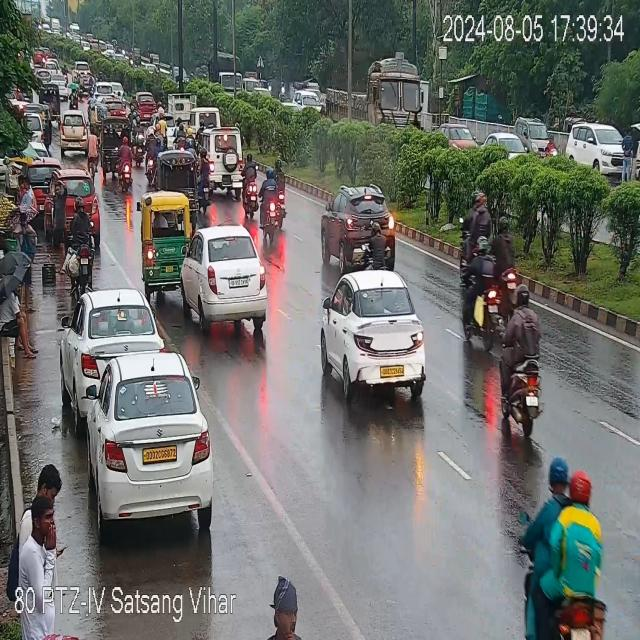2-wheelers: (494, 442, 638, 640), (493, 284, 558, 432), (461, 235, 508, 355), (484, 205, 524, 312), (456, 177, 494, 273), (63, 194, 97, 294), (258, 164, 286, 242), (238, 147, 262, 225), (360, 224, 398, 272), (266, 149, 288, 219), (114, 122, 133, 196), (144, 124, 158, 186), (131, 116, 147, 170), (153, 110, 172, 154), (544, 129, 564, 157)
auto: (136, 180, 196, 296), (156, 150, 203, 213), (98, 112, 135, 181), (40, 81, 64, 125), (90, 98, 110, 138)
car: (79, 356, 221, 548), (314, 262, 436, 402), (59, 286, 173, 432), (177, 212, 281, 356), (320, 170, 398, 276), (45, 170, 109, 250), (564, 114, 628, 174), (205, 118, 248, 202), (20, 157, 64, 230), (482, 120, 528, 160), (54, 104, 88, 158), (516, 108, 552, 156), (14, 108, 50, 152), (437, 119, 479, 154), (188, 99, 222, 139), (151, 108, 179, 144), (292, 82, 324, 111), (135, 88, 158, 120), (630, 117, 640, 184), (242, 66, 263, 94), (70, 58, 92, 84), (33, 66, 55, 89), (94, 80, 115, 104), (51, 70, 68, 99)
pedestrian: (9, 447, 81, 581), (260, 552, 318, 640), (13, 496, 67, 586), (0, 264, 36, 369), (0, 241, 35, 323), (48, 175, 72, 251), (16, 173, 42, 235), (618, 126, 634, 182)
truck: (324, 52, 435, 131), (164, 84, 200, 130), (208, 53, 245, 97)
